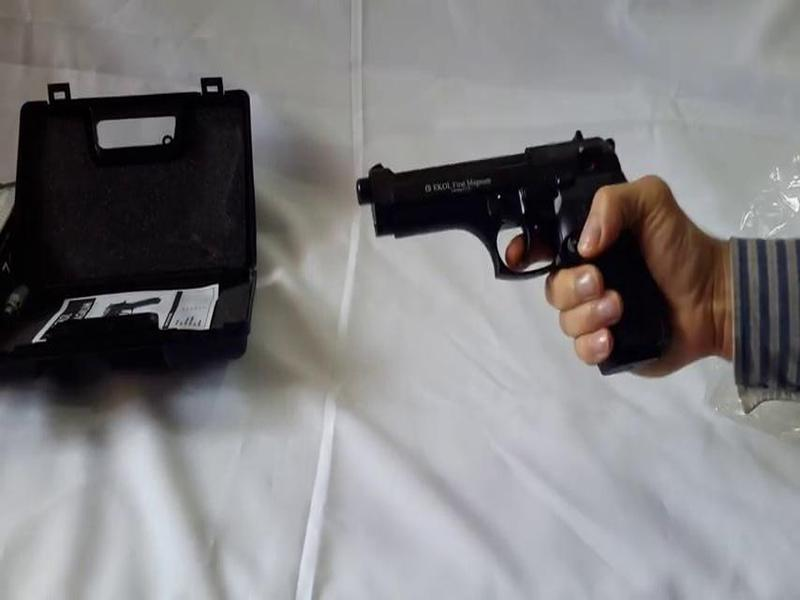Pistola: (331, 123, 701, 363)
